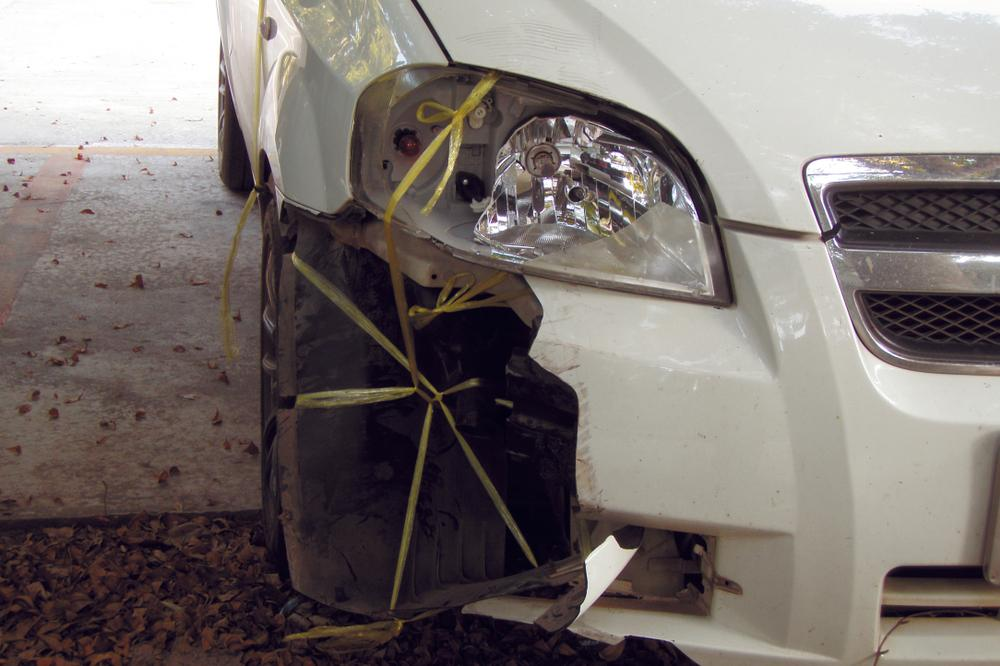lamp broken: (347, 67, 726, 307)
